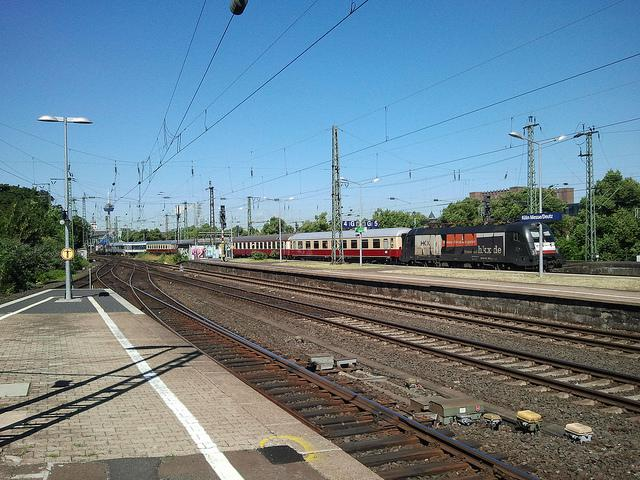Train: (145, 218, 566, 272)
